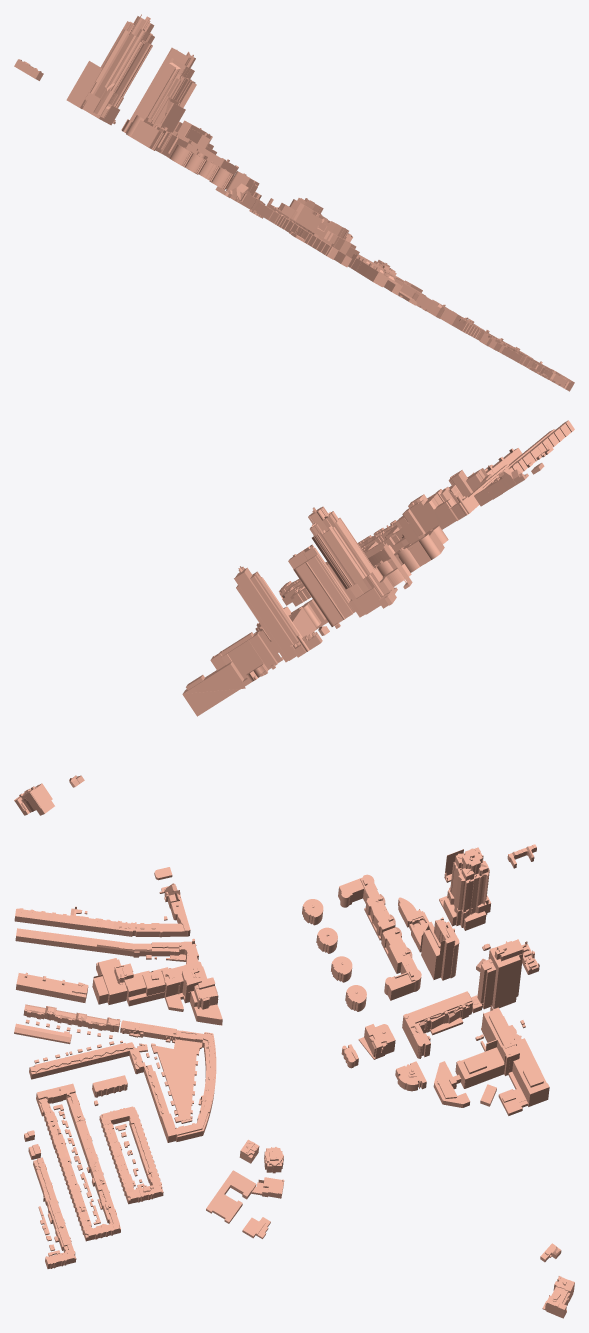
The picture shows the model from 3 angles, top to bottom: view 1: azimuth 30°, elevation 25°; view 2: azimuth 150°, elevation 25°; view 3: azimuth 270°, elevation 25°; orthographic projection. The views are drawn at different scales.
Size of the model in its own units: 1.62e+07 by 1.43e+07 by 2.12e+07.
